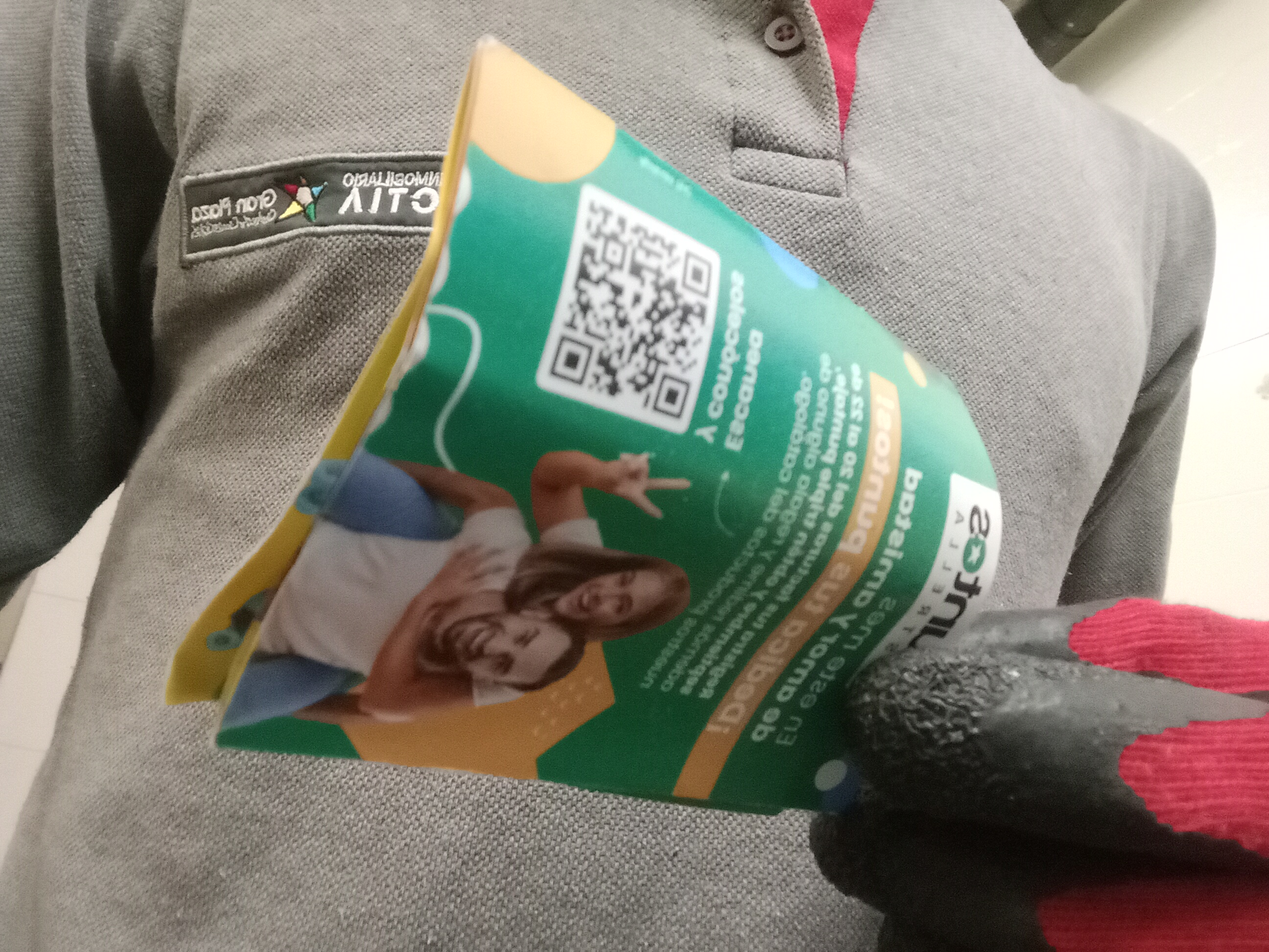Papel: (166, 35, 1005, 815)
